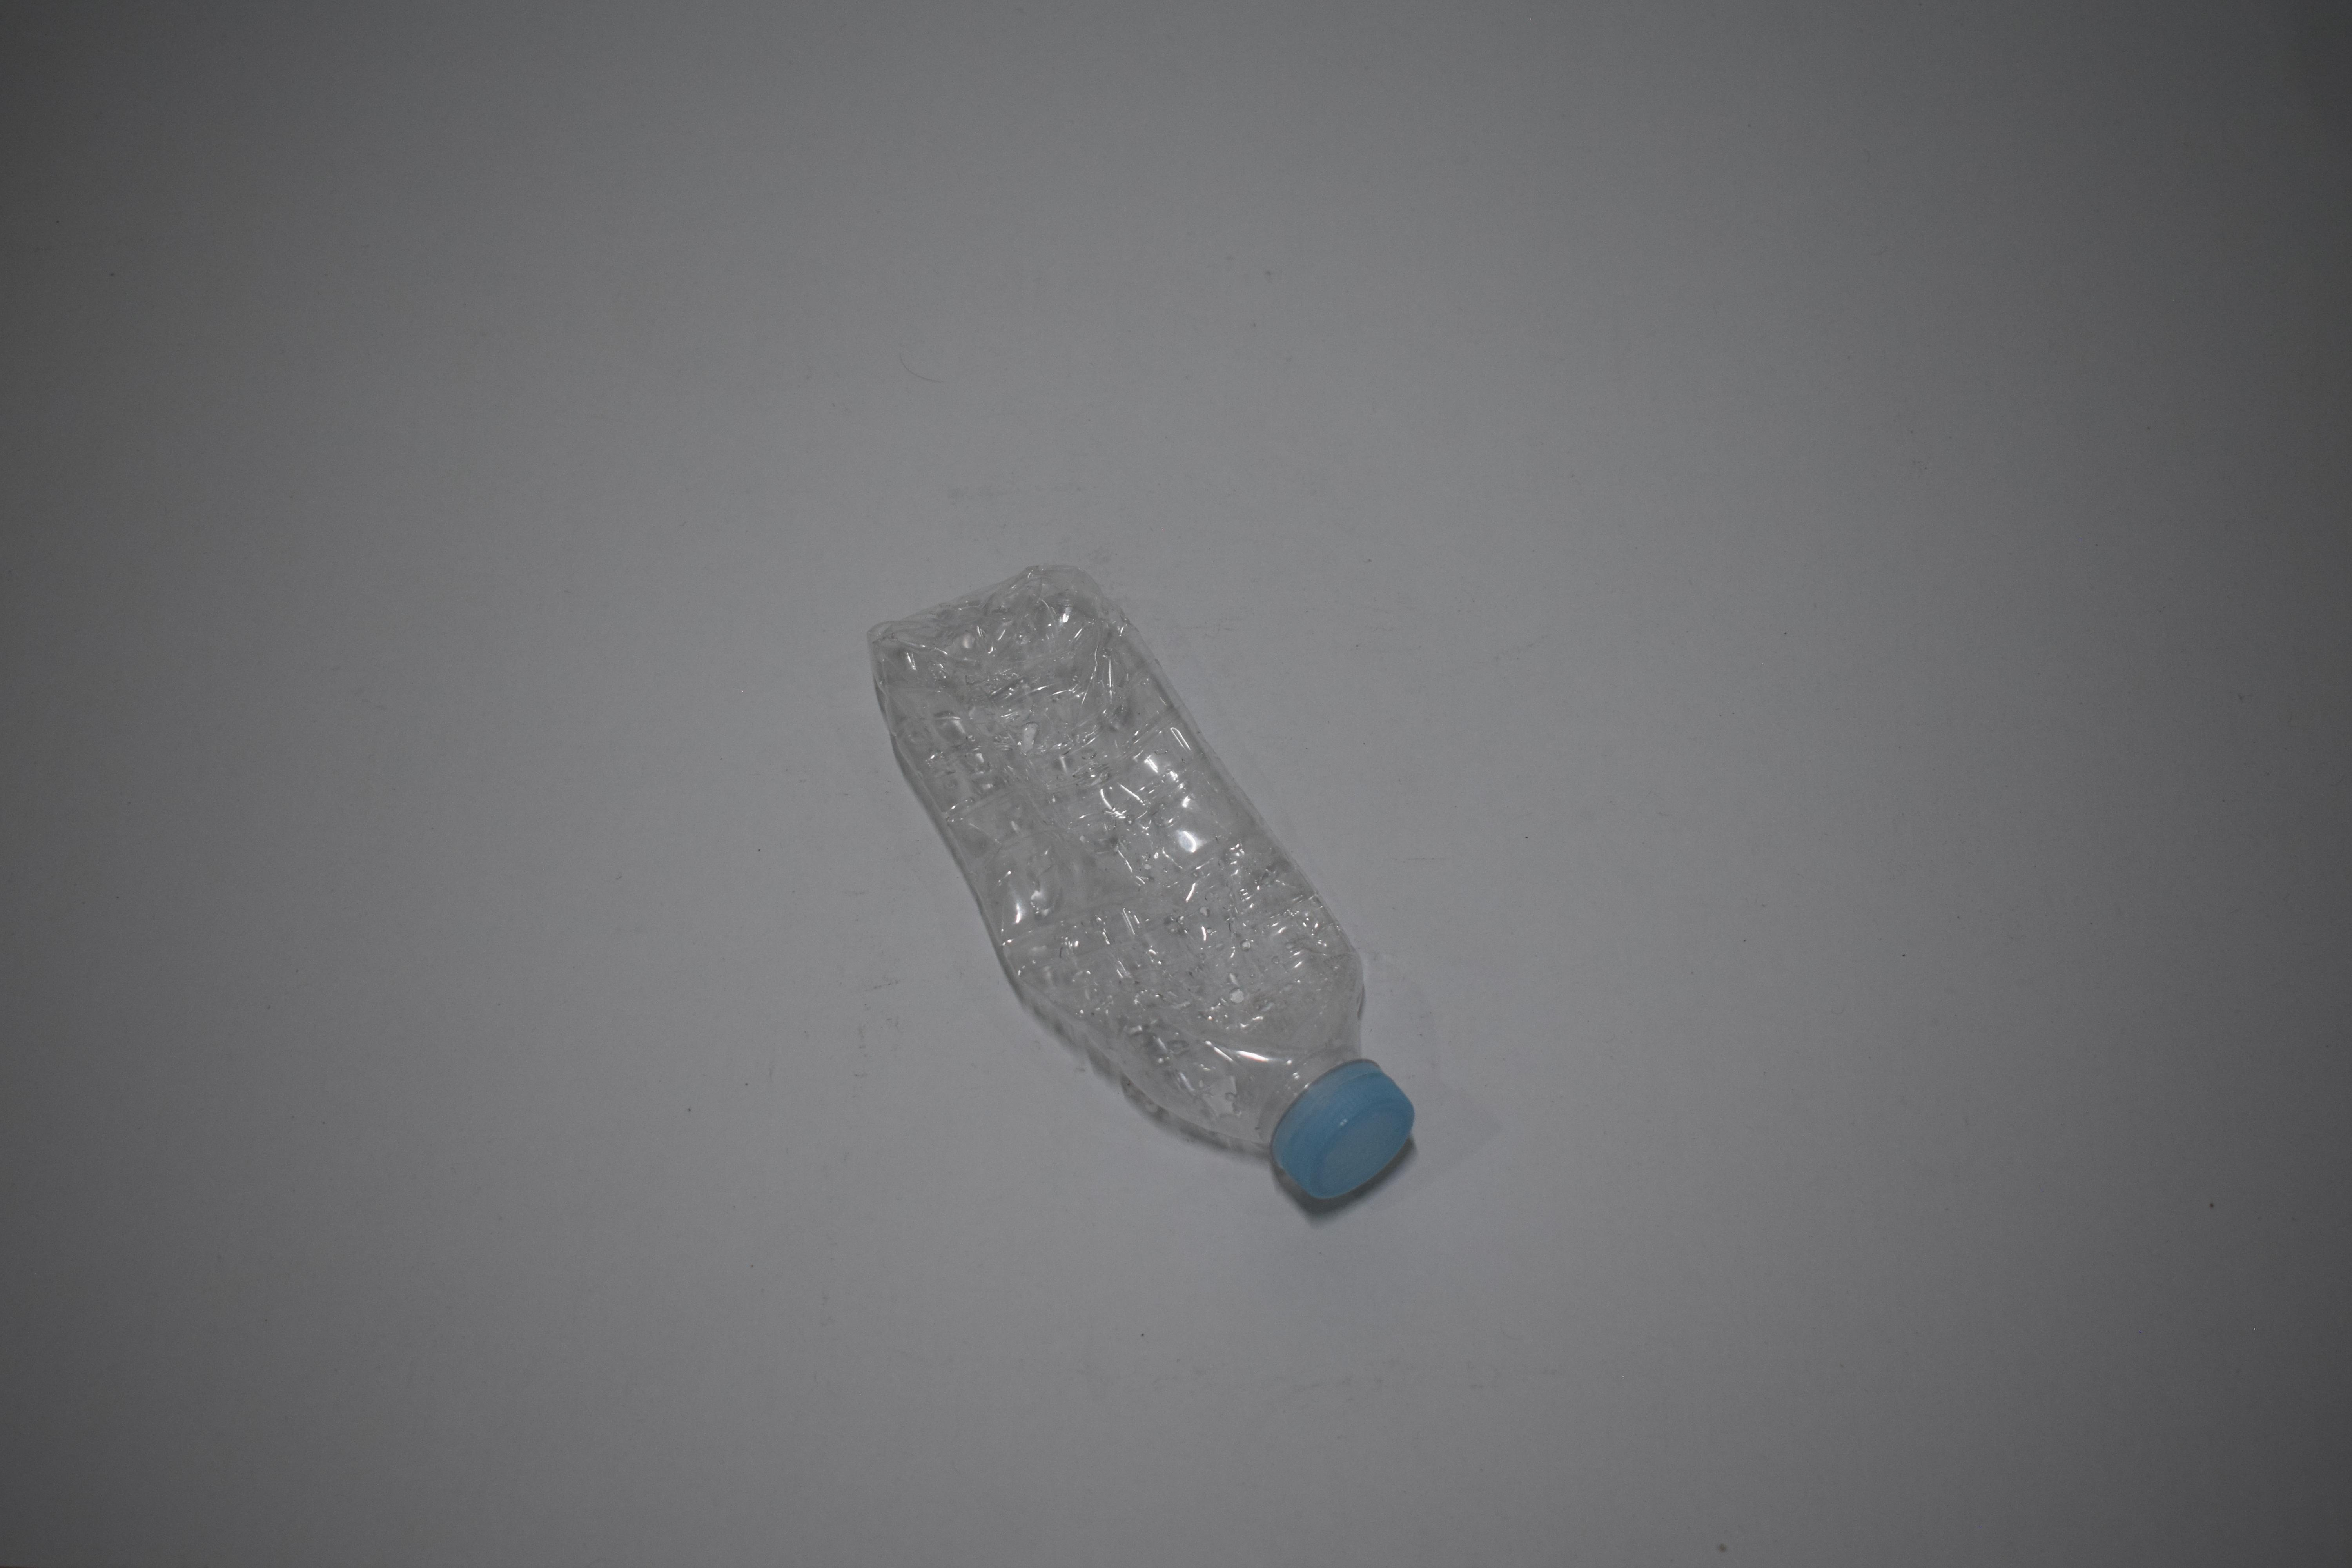bottle: (851, 0, 1410, 434)
